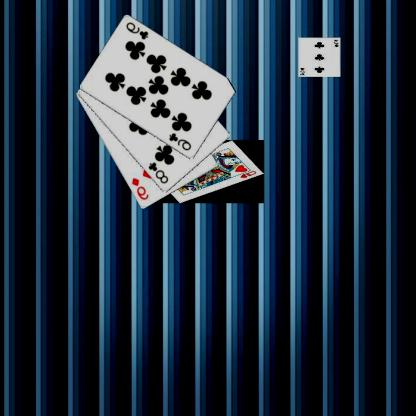6D: (130, 176, 152, 202)
8C: (147, 160, 172, 185)
9C: (168, 130, 194, 152), (126, 20, 152, 41)
